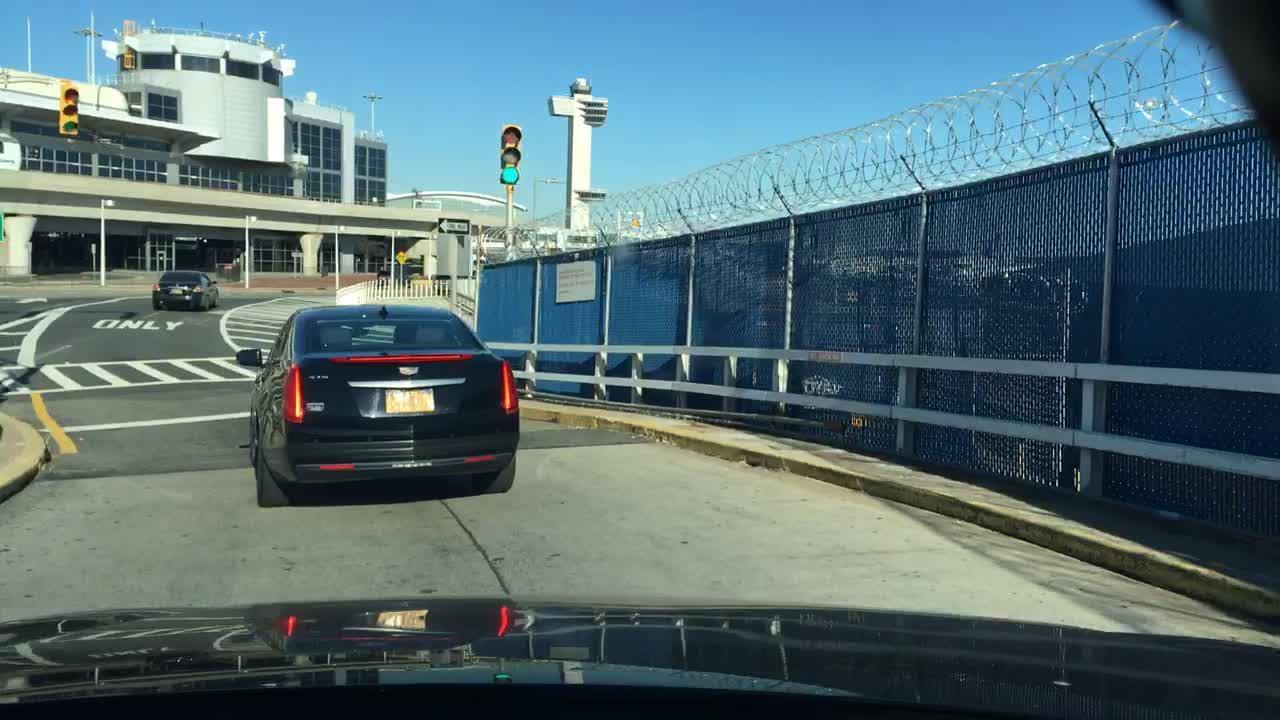cadillac: (390, 359, 430, 383)
